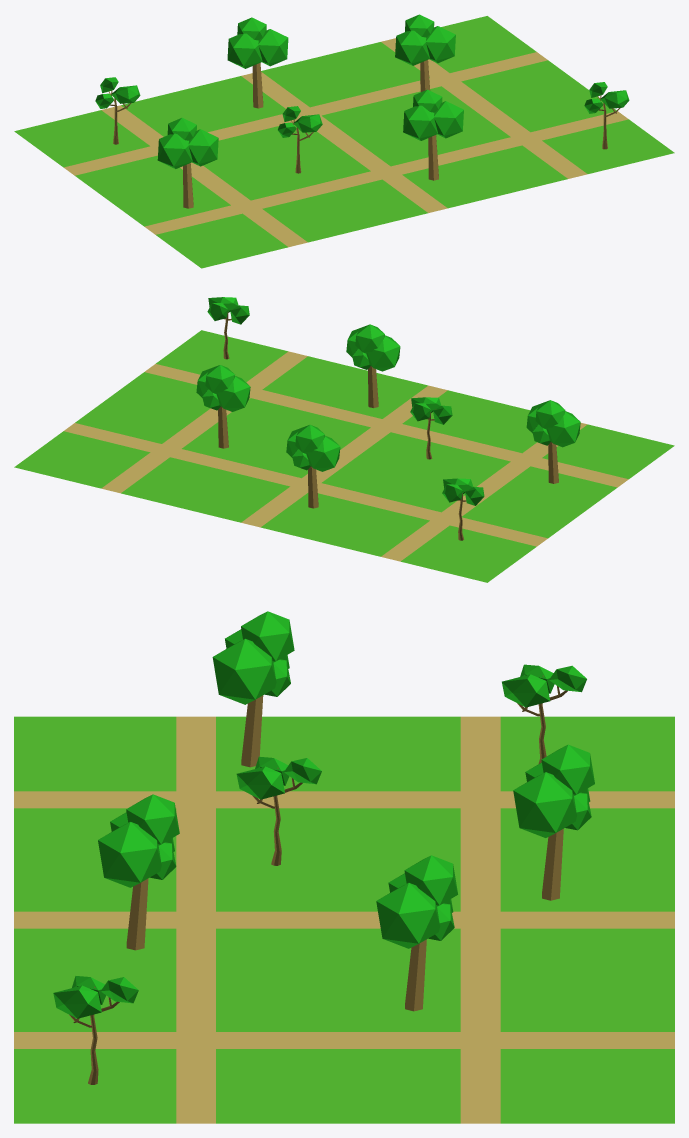
File: park_simple.fbx
3 renders of one model, top to bottom at view 1: azimuth 30°, elevation 25°; view 2: azimuth 150°, elevation 25°; view 3: azimuth 270°, elevation 25°, orthographic. The views are drawn at different scales.
Visible parts, largest first — view 1: Plane004.001, Plane005.001, Cylinder.001; view 2: Plane004.001, Plane005.001, Cylinder.001; view 3: Plane004.001, Plane005.001, Cylinder.001.
Part boxes in pixels (x1,y1,x2,y2): Plane004.001: (14, 16, 674, 268); Plane005.001: (64, 38, 628, 247); Cylinder.001: (95, 14, 629, 208); Plane004.001: (14, 330, 674, 582); Plane005.001: (63, 351, 628, 561); Cylinder.001: (196, 297, 580, 540); Plane004.001: (14, 716, 674, 1123); Plane005.001: (14, 716, 674, 1123); Cylinder.001: (53, 611, 594, 1084).
Size of the model in its own units: 10381 by 1819 by 7120.
